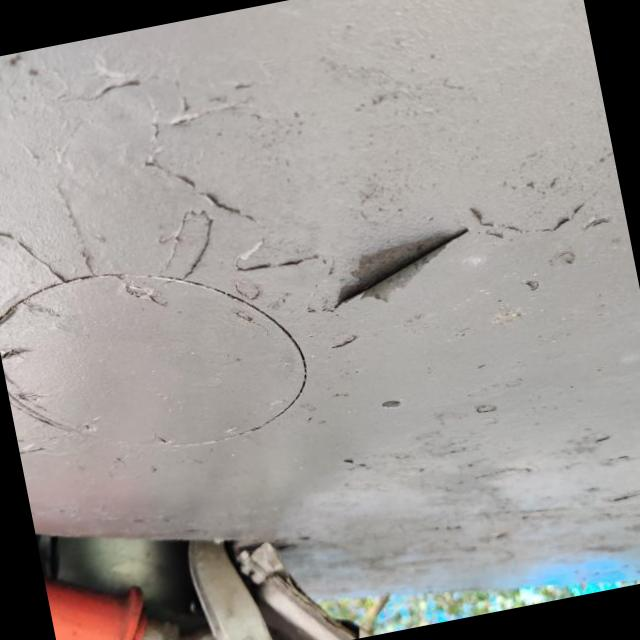Paint-off: (335, 229, 467, 307)
